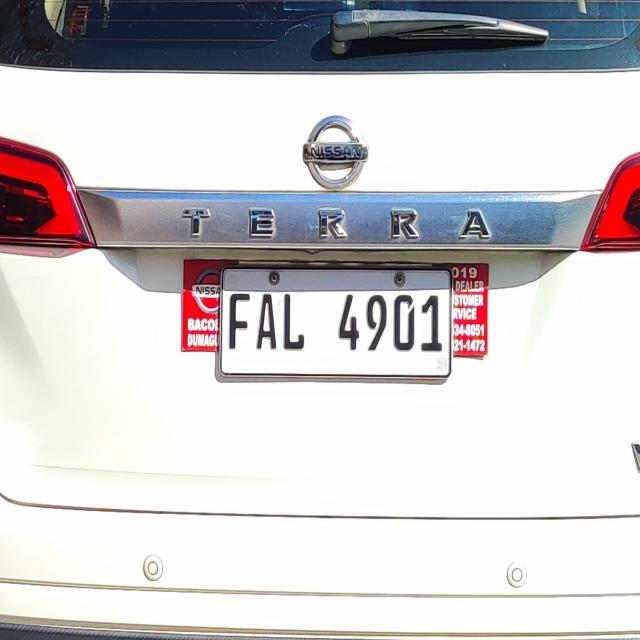plate: (214, 260, 458, 385)
